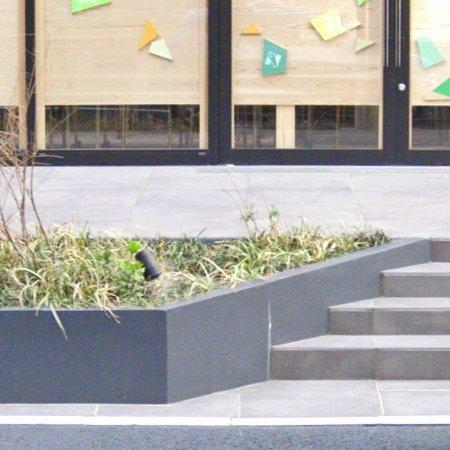stairs: (272, 240, 450, 381)
